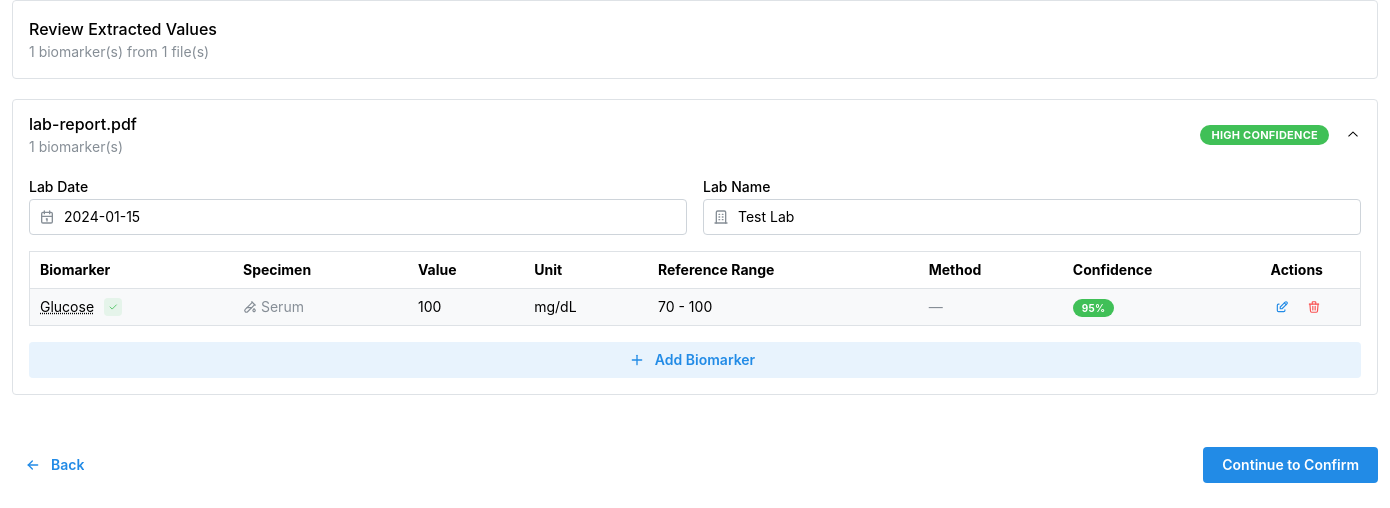
it: ReviewStep › Biomarker editing › enters edit mode when edit button is clicked
Click the button named "Edit biomarker".
click(1282, 307)  # box x1=1270 y1=296 x2=1292 y2=318
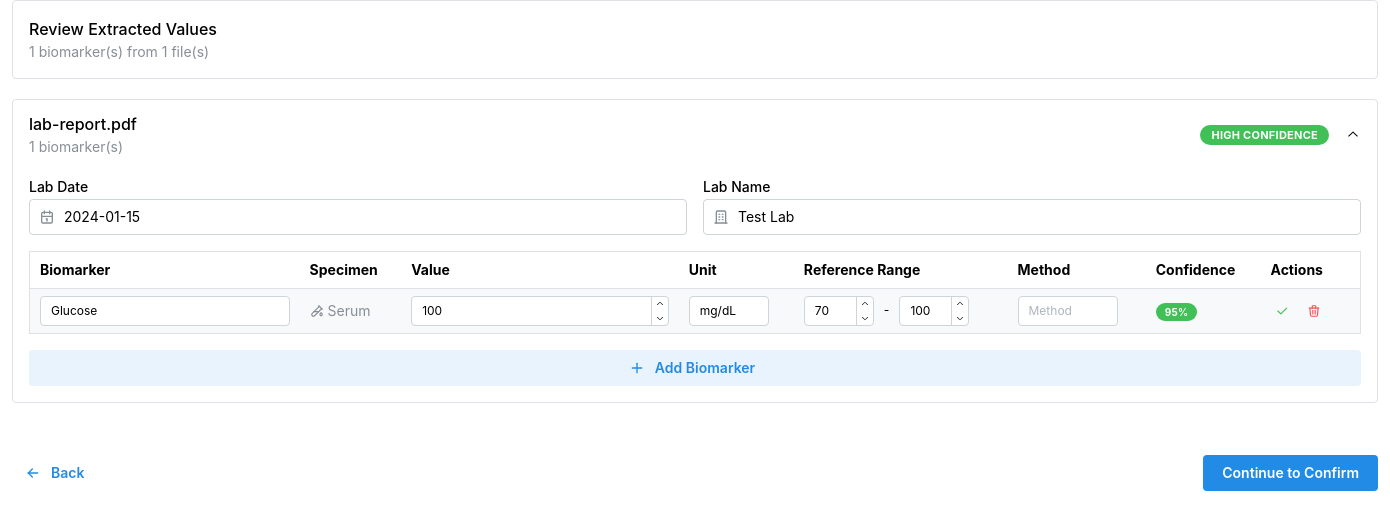
Expected: the 1st field with placeholder "Biomarker name" is shown, x1=40 y1=296 x2=290 y2=326
Expected: the 2nd field with placeholder "Value" is shown, x1=411 y1=296 x2=669 y2=326
Expected: the 3rd field with placeholder "Unit" is shown, x1=689 y1=296 x2=769 y2=326
